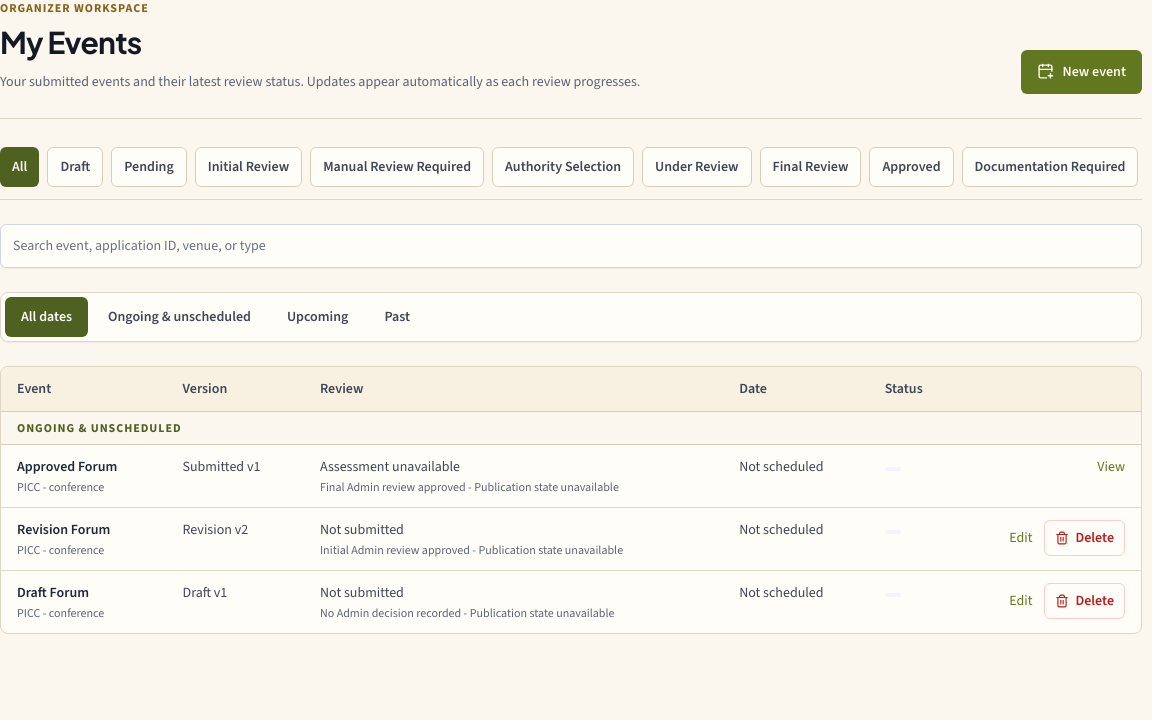
Test: MyEvents › keeps the dialog and Draft visible when deletion fails
Click the button with aria-label "Delete Draft Forum".
click(1085, 600)  # box top-left (1044, 582), bottom-right (1125, 618)
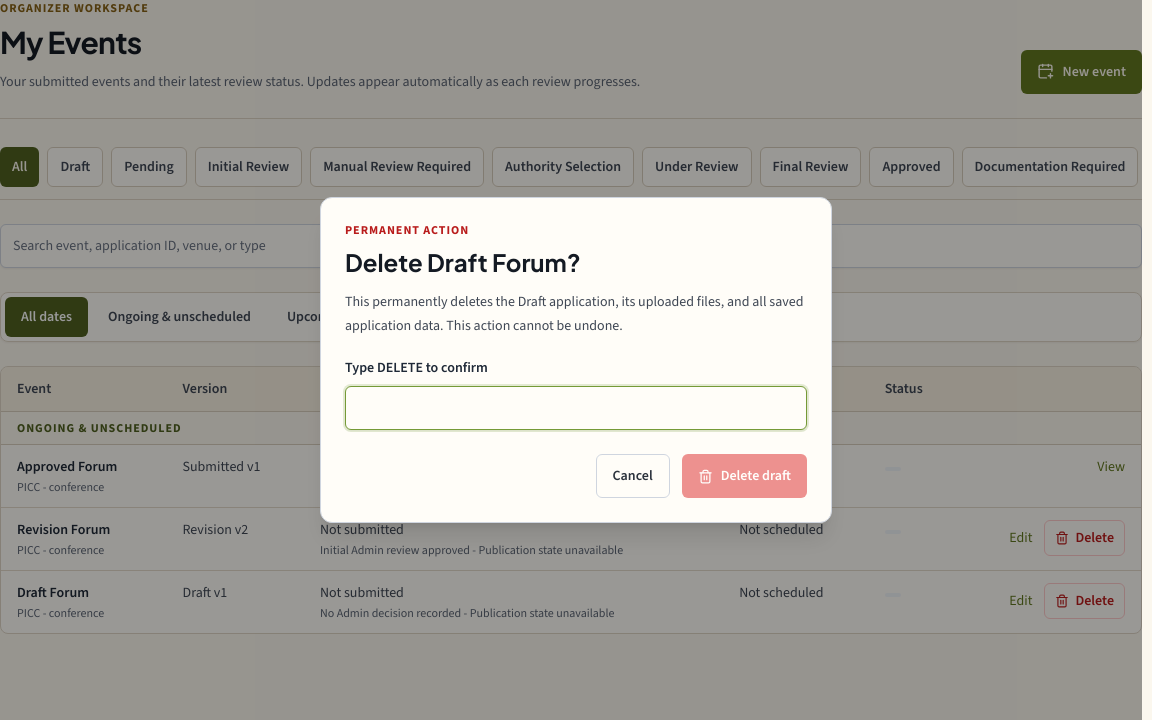
Type "DELETE" into the field labelled "Type DELETE to confirm".
click(576, 408); type("DELETE")  # box top-left (345, 386), bottom-right (807, 430)
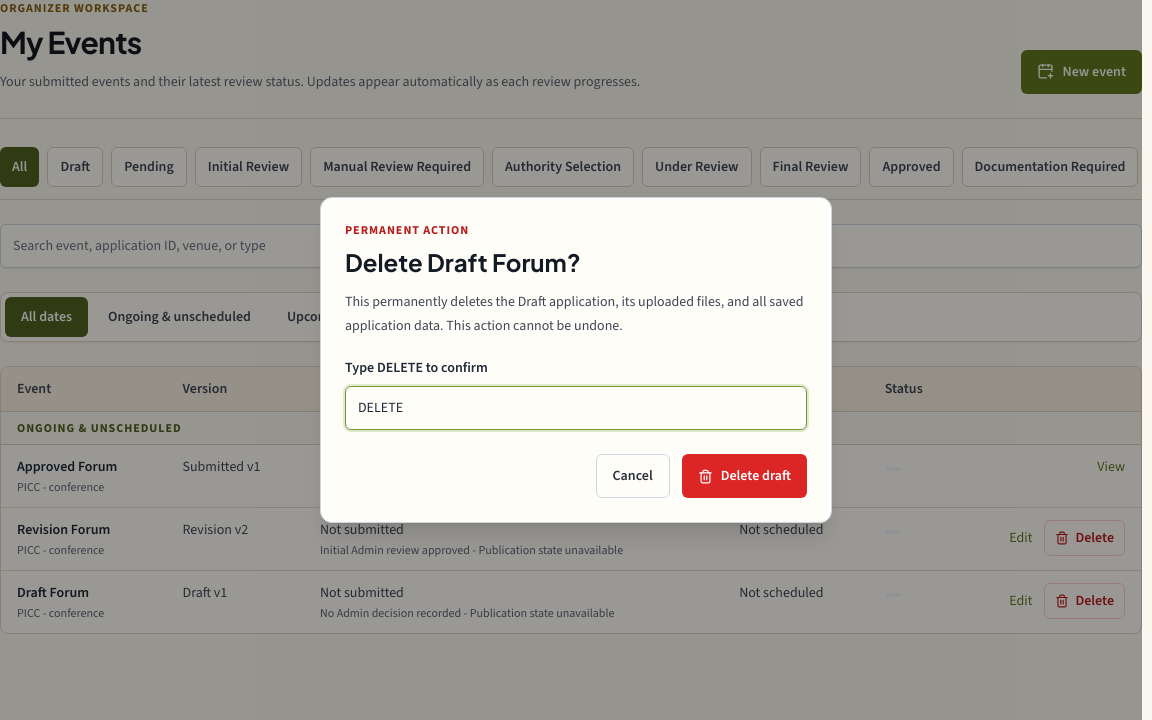
Click the button "Delete draft".
click(744, 476)  # box top-left (682, 454), bottom-right (807, 498)
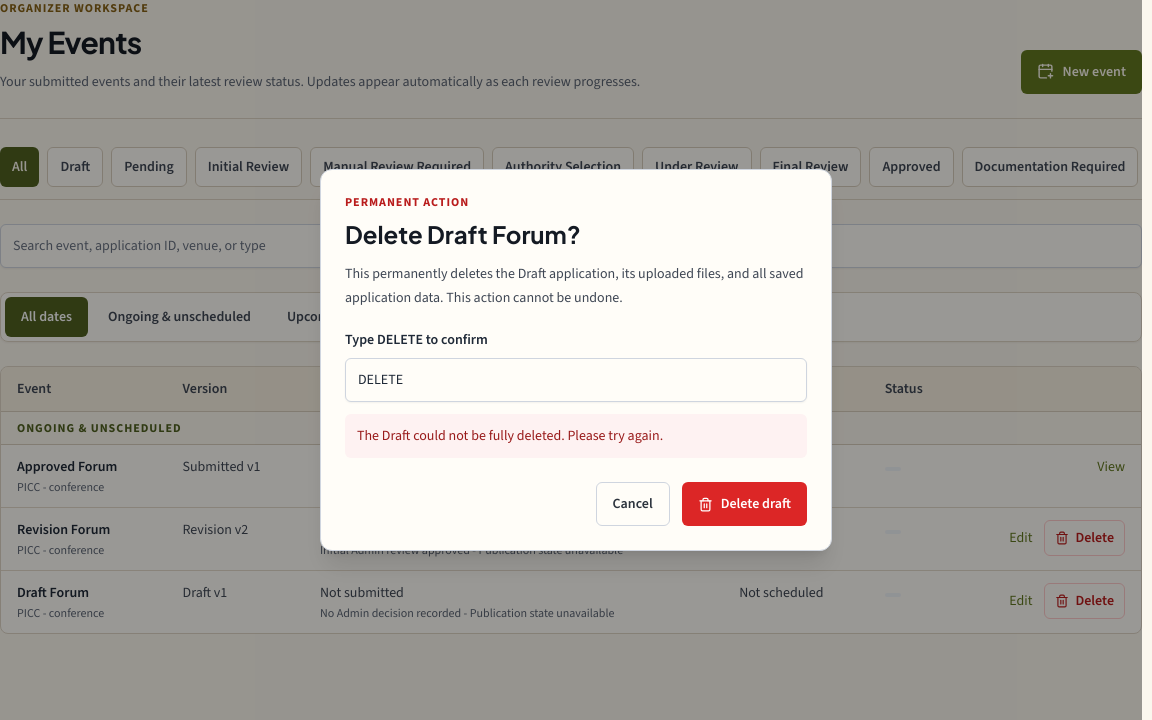
Expected: the text "Draft Forum" is shown, top-left (17, 582), bottom-right (89, 602)
Expected: the message shows "could not be fully deleted", top-left (357, 426), bottom-right (663, 445)
